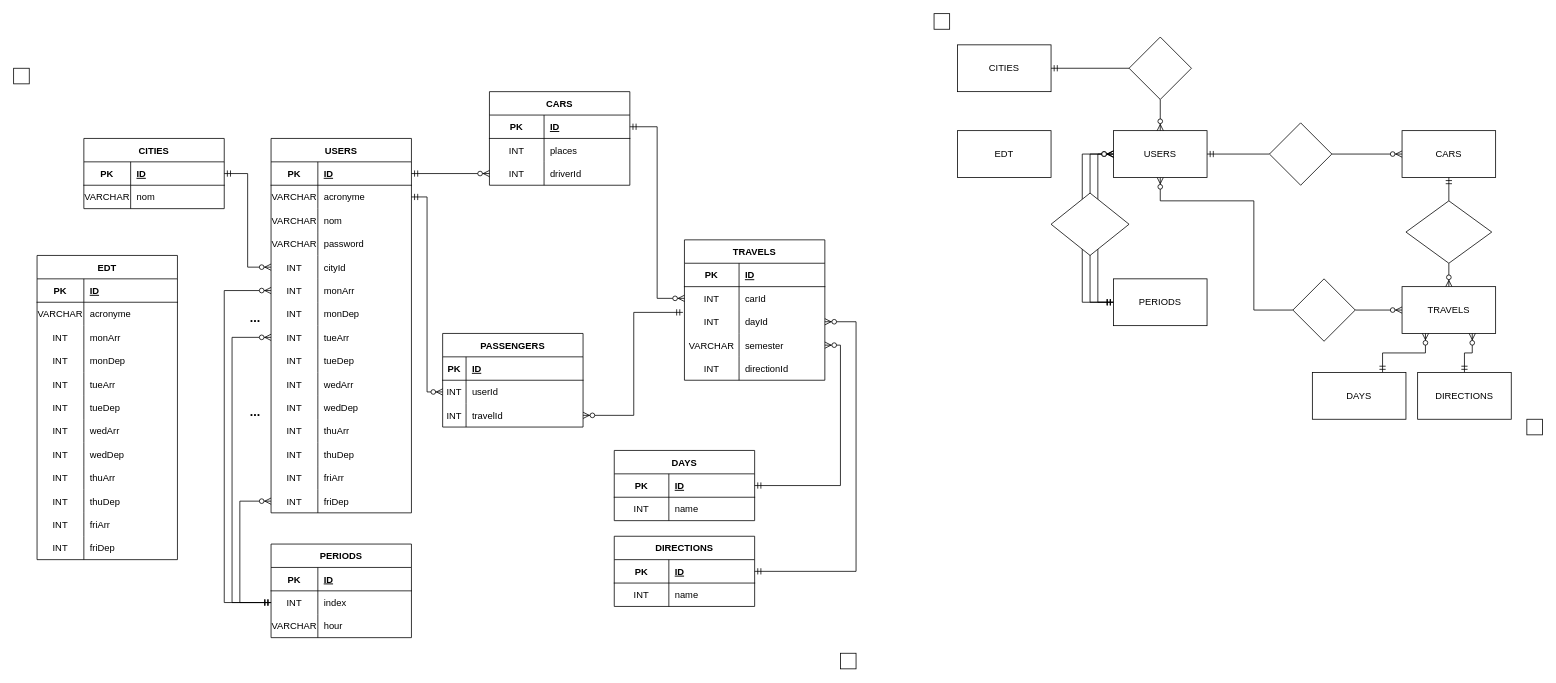
The diagram is 1556 pixels wide and 683 high, and some of its shapes have lost their labels. Each missing label, with the centre of its shape:
"COMMENCE / FINI" goes at (1089,223).
"CONDUIT" goes at (1300,153).
"HABITE" goes at (1159,67).
"TRANSPORTE" goes at (1448,231).
"UTILISE" goes at (1323,309).
